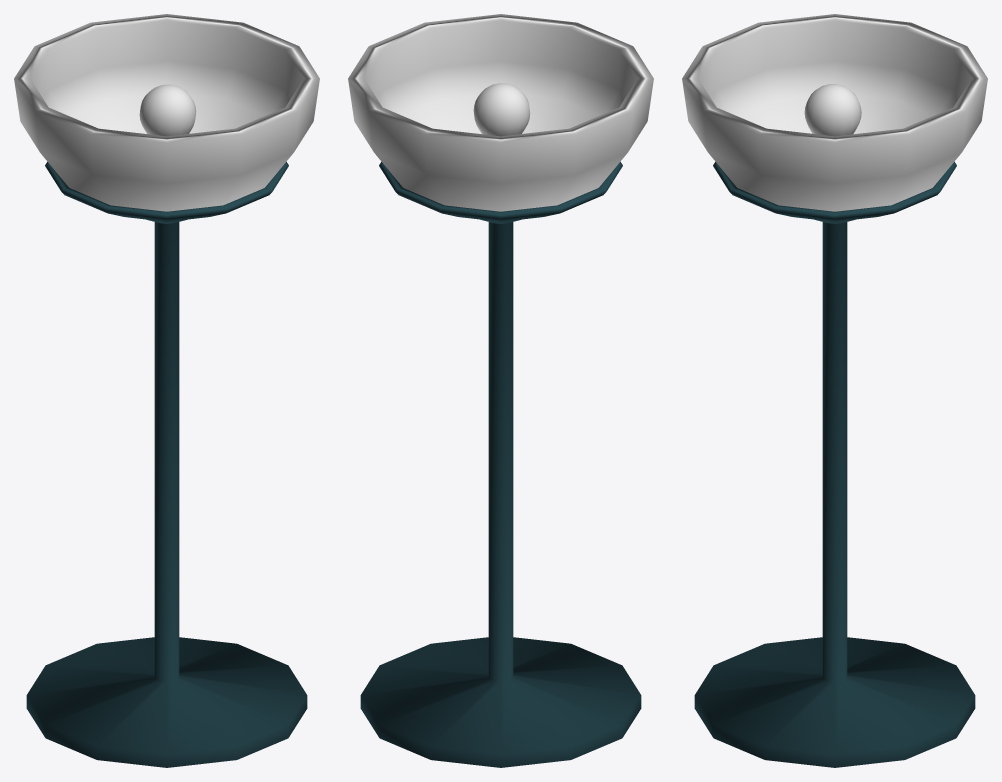
Rendered from Lampe.fbx.
The picture shows the model from 3 angles, left to right: view 1: azimuth 30°, elevation 25°; view 2: azimuth 150°, elevation 25°; view 3: azimuth 270°, elevation 25°; orthographic projection.
Parts seen in each view (by area): view 1: Cylinder.004; view 2: Cylinder.004; view 3: Cylinder.004.
Part boxes in pixels (<box>): Cylinder.004: <box>14,14,319,767</box>; Cylinder.004: <box>348,14,653,767</box>; Cylinder.004: <box>682,14,987,767</box>.
Bounding box in the file's own units: 372 × 846 × 372.
